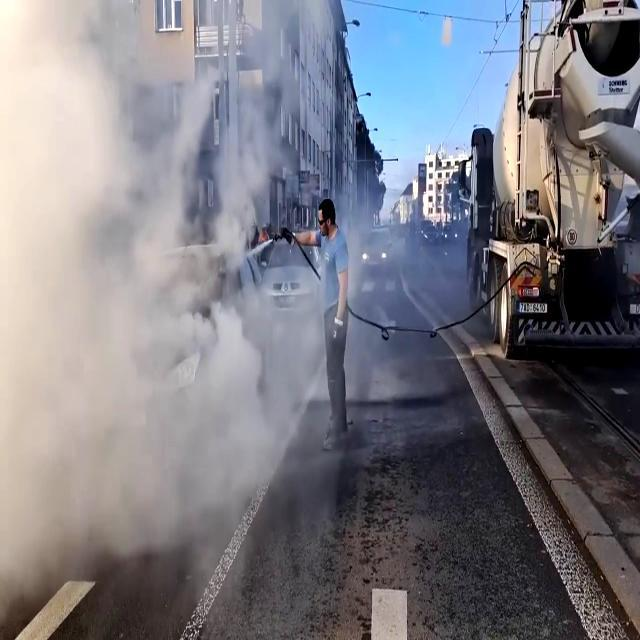Smoke: (0, 0, 332, 594)
